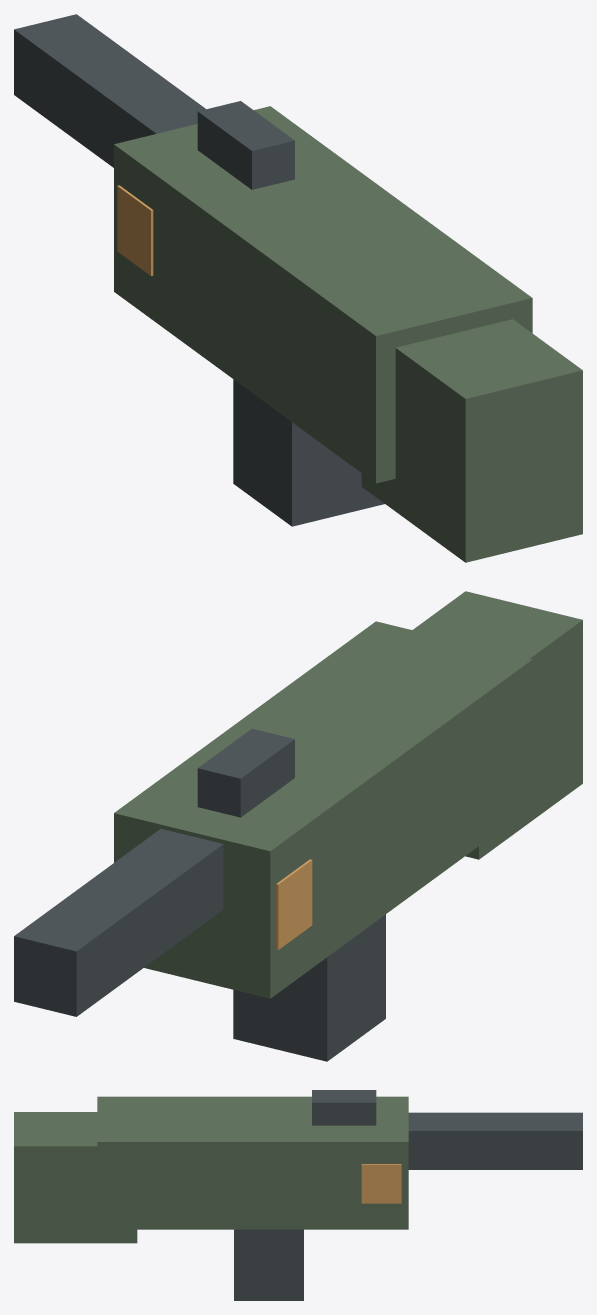
File: carabina.glb
The picture shows the model from 3 angles, top to bottom: view 1: azimuth 30°, elevation 25°; view 2: azimuth 150°, elevation 25°; view 3: azimuth 270°, elevation 25°; orthographic projection. The views are drawn at different scales.
Parts seen in each view (by area): view 1: Cuerpo, Culata, Cañón, Cargador, Mira, Banda; view 2: Cuerpo, Cañón, Culata, Cargador, Mira, Banda; view 3: Cuerpo, Culata, Cañón, Cargador, Mira, Banda.
Boxes of the visible parts, x1,y1,x2,y2 form: Cuerpo: [114, 106, 532, 483]; Culata: [361, 319, 582, 562]; Cañón: [14, 14, 205, 167]; Cargador: [233, 379, 384, 526]; Mira: [197, 101, 294, 189]; Banda: [117, 185, 153, 275]; Cuerpo: [114, 621, 532, 998]; Cañón: [14, 829, 223, 1016]; Culata: [412, 591, 582, 859]; Cargador: [233, 914, 385, 1061]; Mira: [197, 728, 294, 817]; Banda: [276, 859, 312, 949]; Cuerpo: [97, 1096, 408, 1229]; Culata: [14, 1112, 137, 1243]; Cañón: [408, 1112, 582, 1169]; Cargador: [234, 1229, 303, 1300]; Mira: [312, 1090, 376, 1125]; Banda: [361, 1164, 401, 1203].
Size of the model in its own units: 0.206 by 0.3925 by 1.06.
